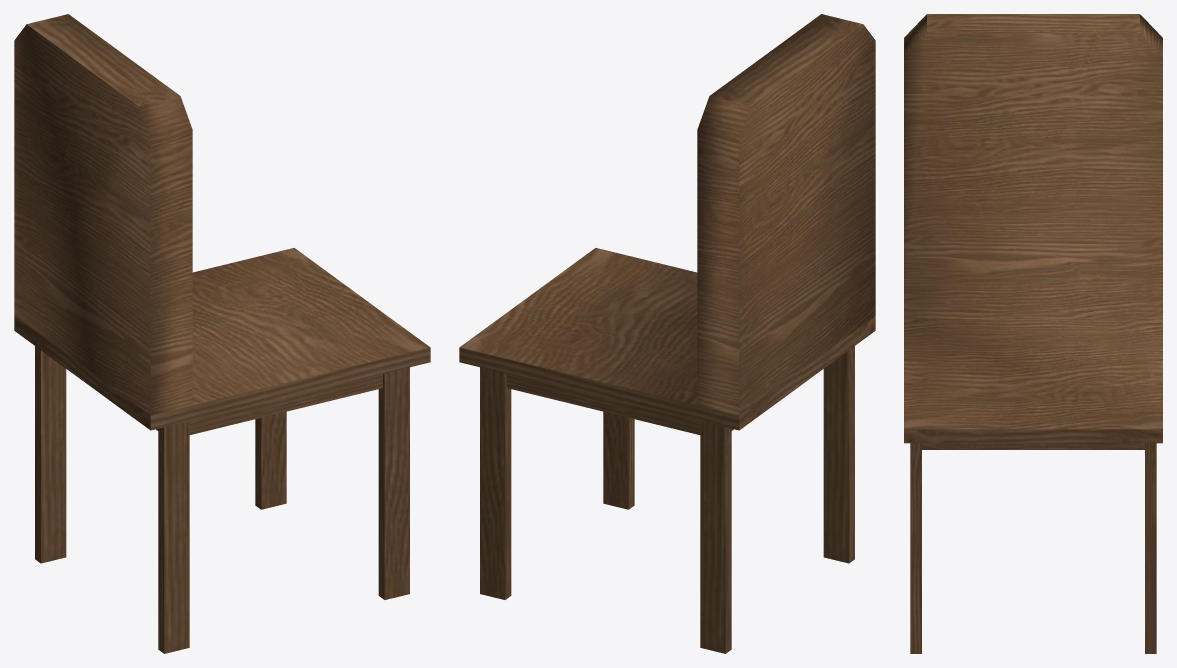
File: Silla.fbx
3 renders of one model, left to right at view 1: azimuth 30°, elevation 25°; view 2: azimuth 150°, elevation 25°; view 3: azimuth 270°, elevation 25°, orthographic. The views are drawn at different scales.
Visible parts, largest first — view 1: Silla; view 2: Silla; view 3: Silla.
Boxes of the visible parts, x1,y1,x2,y2 form: Silla: (14, 14, 430, 653); Silla: (459, 14, 875, 653); Silla: (904, 14, 1162, 653).
Size of the model in its own units: 0.4871 by 0.4106 by 0.9073.
1 material, 1 textured.
